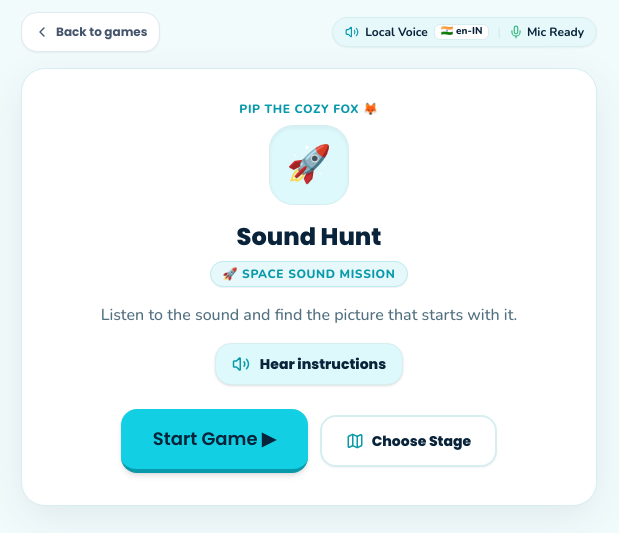
it: Space Sound Mission (Sound Hunt) — 25-Level Game Suite › 4. selecting a correct answer shows success feedback and awards a point
The image size is (619, 533).
Click the button "Start Game ▶". click: (214, 441)
box: [121, 409, 308, 473]
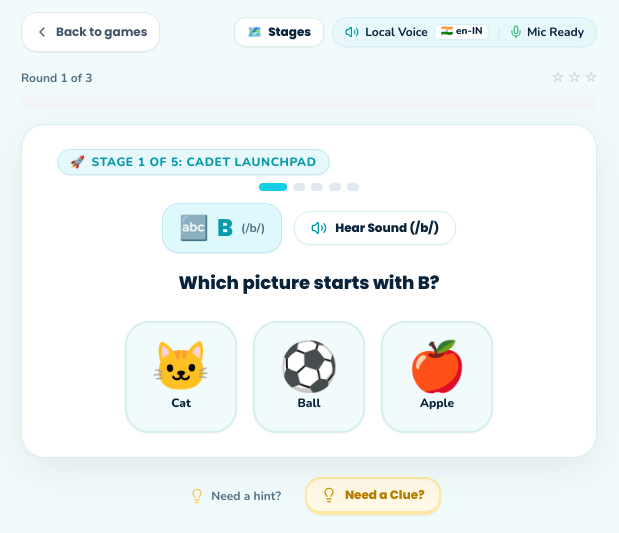
Click the correct choice 'Ball'
Click the button labelled "⚽ Ball". click: (309, 377)
box: [253, 321, 365, 433]
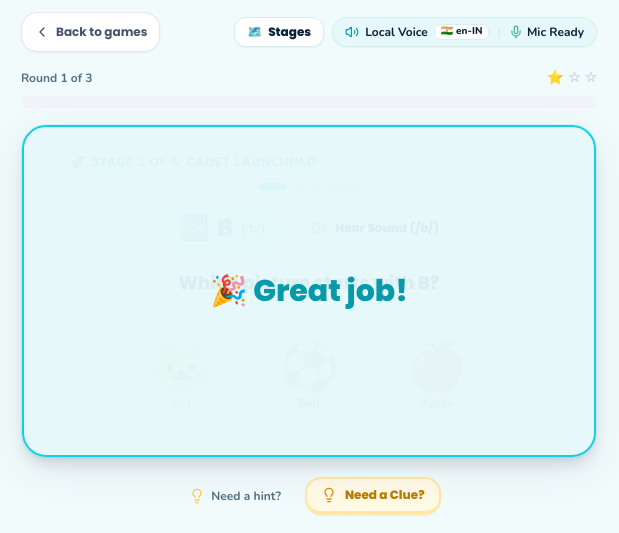
Now the text "🎉 Great job!" is shown, box [22, 125, 596, 457]
Now the text with test id "feedback-overlay" shows "Great job!", box [210, 270, 408, 312]
